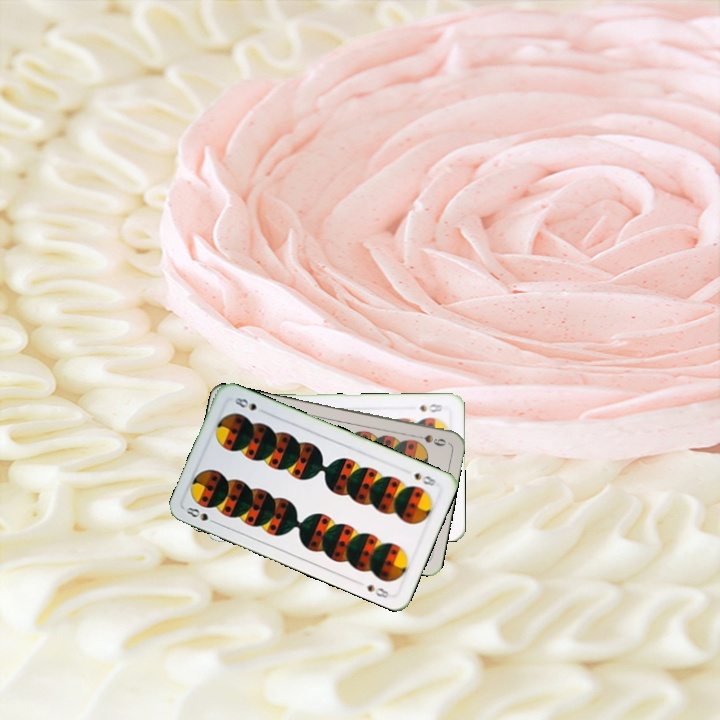S8: (182, 503, 221, 527), (410, 469, 439, 489), (415, 400, 446, 415)
S9: (409, 431, 449, 449)
